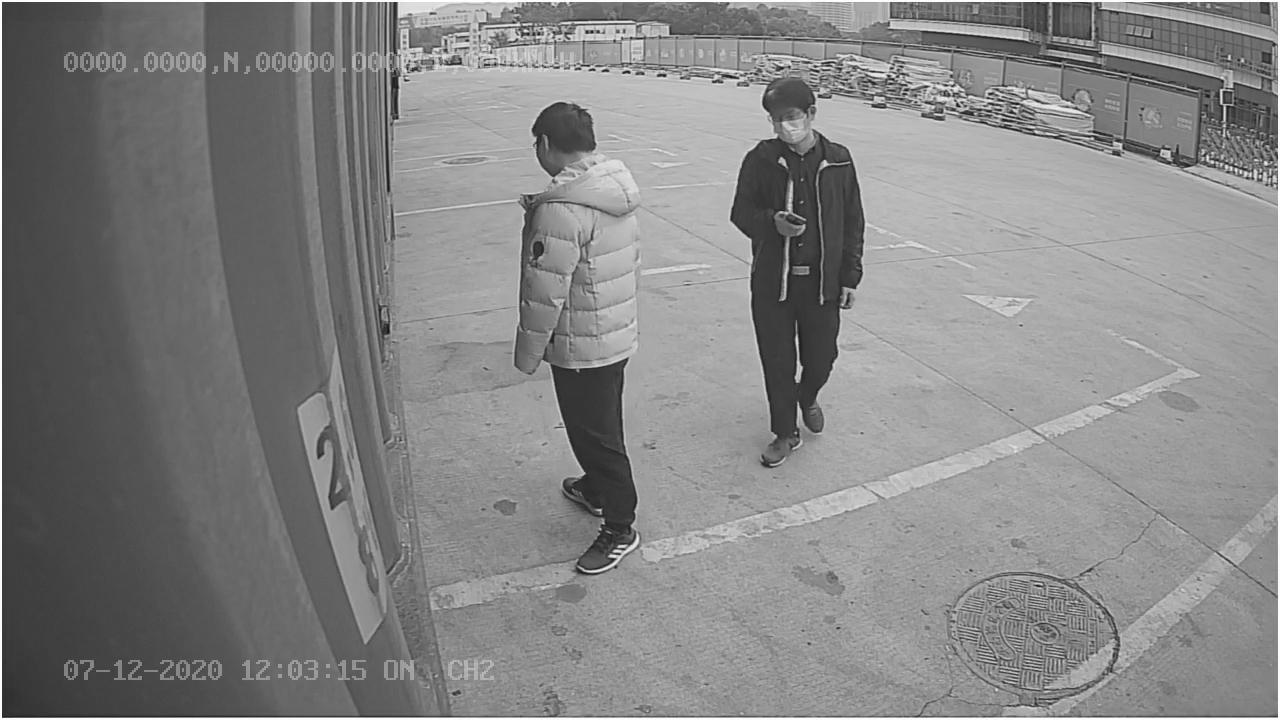person: (505, 97, 648, 579), (727, 73, 868, 473)
